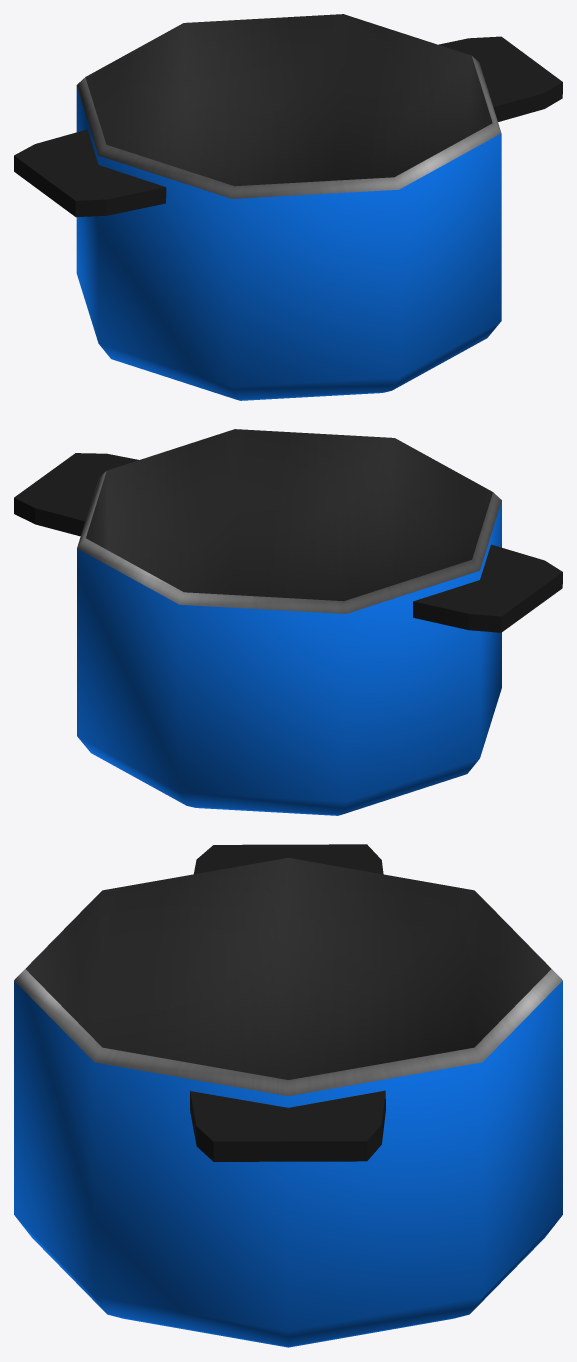
File: Cooking_Pot_H.FBX
The picture shows the model from 3 angles, top to bottom: view 1: azimuth 30°, elevation 25°; view 2: azimuth 150°, elevation 25°; view 3: azimuth 270°, elevation 25°; orthographic projection. The views are drawn at different scales.
Parts seen in each view (by area): view 1: Cooking_Pot; view 2: Cooking_Pot; view 3: Cooking_Pot.
Boxes of the visible parts, x1,y1,x2,y2 form: Cooking_Pot: (14, 14, 562, 400); Cooking_Pot: (14, 429, 562, 815); Cooking_Pot: (14, 844, 562, 1347).
Bounding box in the file's own units: 102 × 45 × 80.
